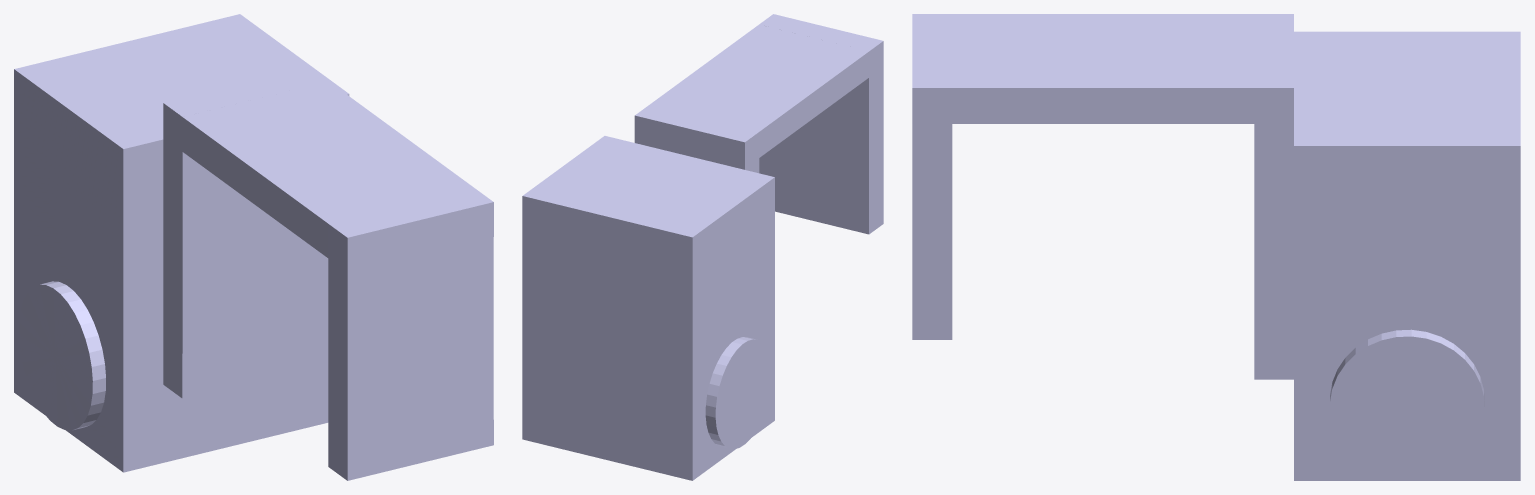
Rendered from dbAlpha_URDF_Leg_Thorax_Left_Link1__116__.dae.
3 renders of one model, left to right at view 1: azimuth 30°, elevation 25°; view 2: azimuth 150°, elevation 25°; view 3: azimuth 270°, elevation 25°, orthographic. The views are drawn at different scales.
Parts seen in each view (by area): view 1: Node_0x7f7afcee6790 (×5); view 2: Node_0x7f7afcee6790 (×5); view 3: Node_0x7f7afcee6790 (×5).
Boxes of the visible parts, x1,y1,x2,y2 form: Node_0x7f7afcee6790 (×5): (14, 14, 493, 480); Node_0x7f7afcee6790 (×5): (522, 14, 883, 480); Node_0x7f7afcee6790 (×5): (912, 14, 1520, 480).
Bounding box in the file's own units: 0.038 × 0.0518 × 0.0765.
